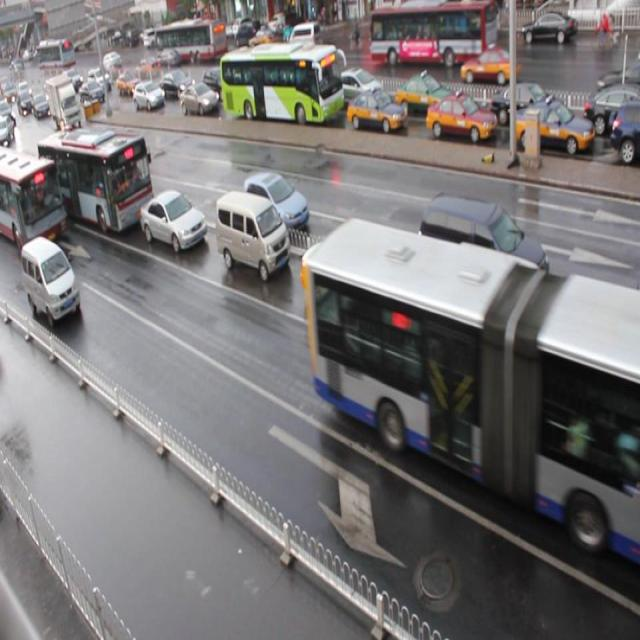car: (299, 229, 403, 321), (514, 100, 594, 160), (243, 168, 310, 237), (138, 187, 206, 252), (425, 92, 497, 144), (488, 80, 558, 130), (608, 331, 640, 434), (394, 71, 459, 119), (345, 88, 406, 134), (330, 64, 384, 111), (584, 88, 640, 132), (609, 100, 640, 161), (21, 159, 61, 204), (69, 129, 108, 172), (179, 82, 219, 111), (133, 79, 166, 112), (201, 68, 234, 97), (161, 70, 194, 98), (117, 66, 142, 95)
truck: (438, 240, 567, 388), (417, 193, 551, 312), (214, 186, 289, 282), (21, 234, 80, 328)
van: (302, 215, 640, 561), (38, 126, 154, 235), (216, 42, 339, 125), (1, 146, 68, 256)
